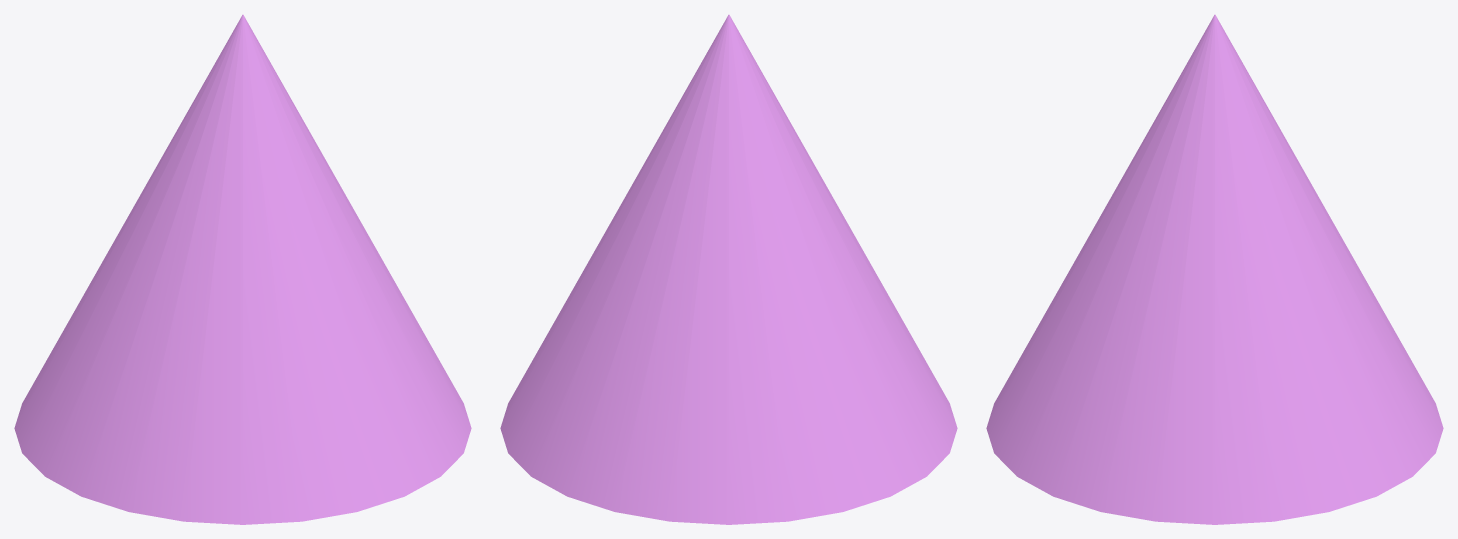
3 renders of one model, left to right at view 1: azimuth 30°, elevation 25°; view 2: azimuth 150°, elevation 25°; view 3: azimuth 270°, elevation 25°, orthographic.
Parts seen in each view (by area): view 1: cone; view 2: cone; view 3: cone.
Part boxes in pixels (x1=…): cone: x1=14, y1=14, x2=471, y2=524; cone: x1=500, y1=14, x2=957, y2=524; cone: x1=986, y1=14, x2=1443, y2=524.
Size of the model in its own units: 1 by 1 by 1.
